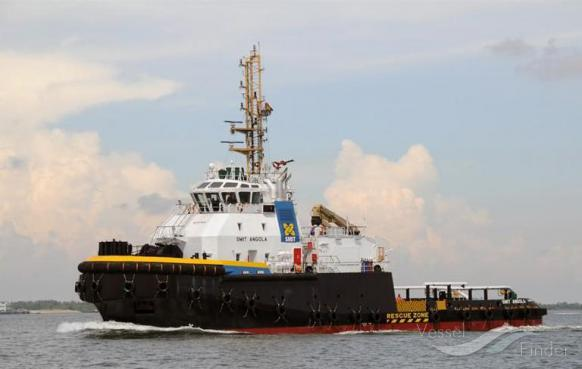OCR: (233, 230, 269, 244)
